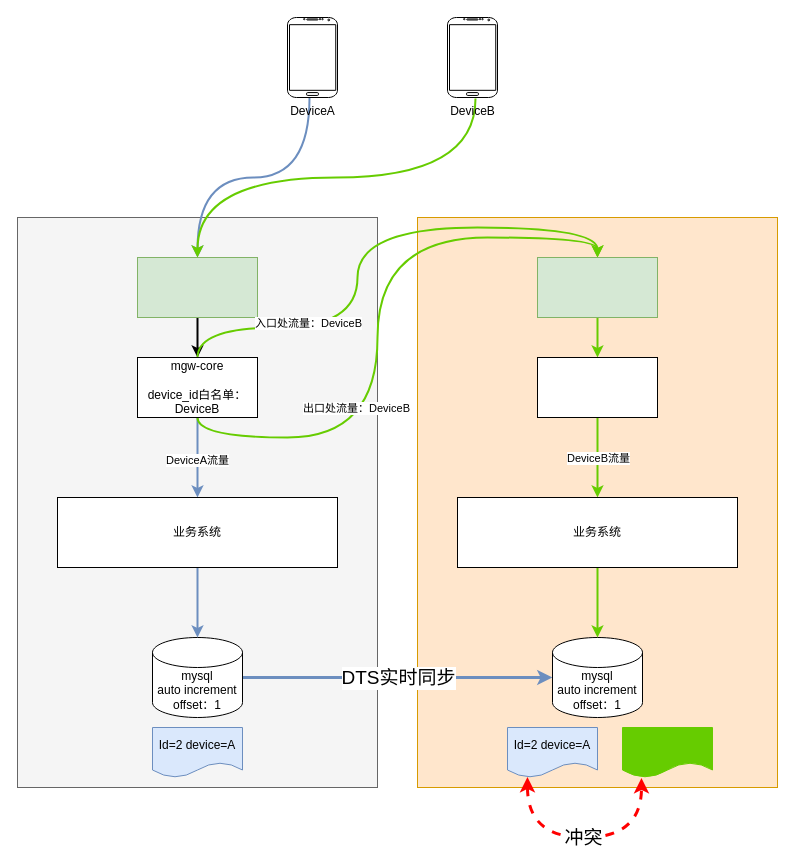
Some shapes in this 795 by 867 pixel diagram are drawn without their labels. The shapes that lost their labels are listed below. From the top down, each one's box as (x1, y1, x2, y2) in pixels, then its label:
(136, 256, 258, 318): Nginx
(536, 256, 658, 318): ng-ingress
(536, 356, 658, 418): mgw-core
(622, 726, 712, 778): Id=2 device=B
